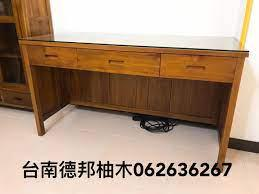desk: (14, 22, 253, 150)
